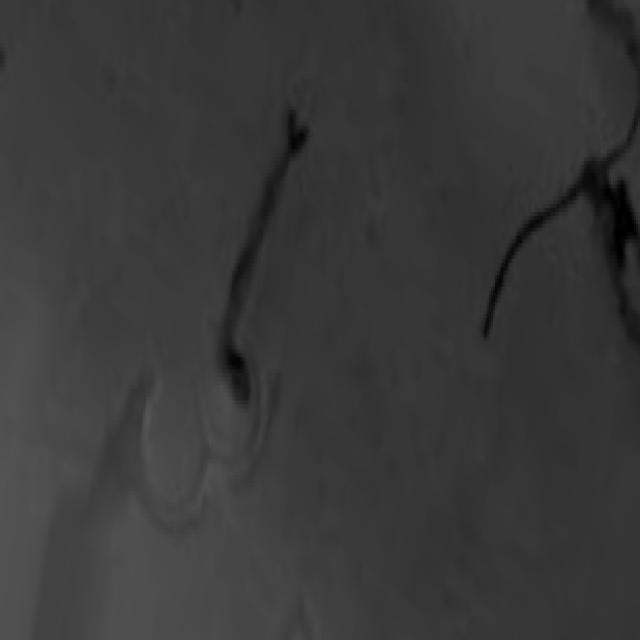larvas: (204, 102, 318, 418)
